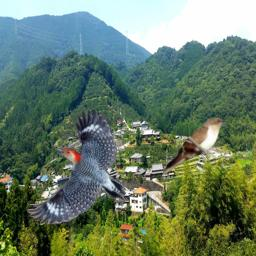Cuckoo: (163, 117, 228, 175)
Woodpecker: (27, 109, 126, 225)
